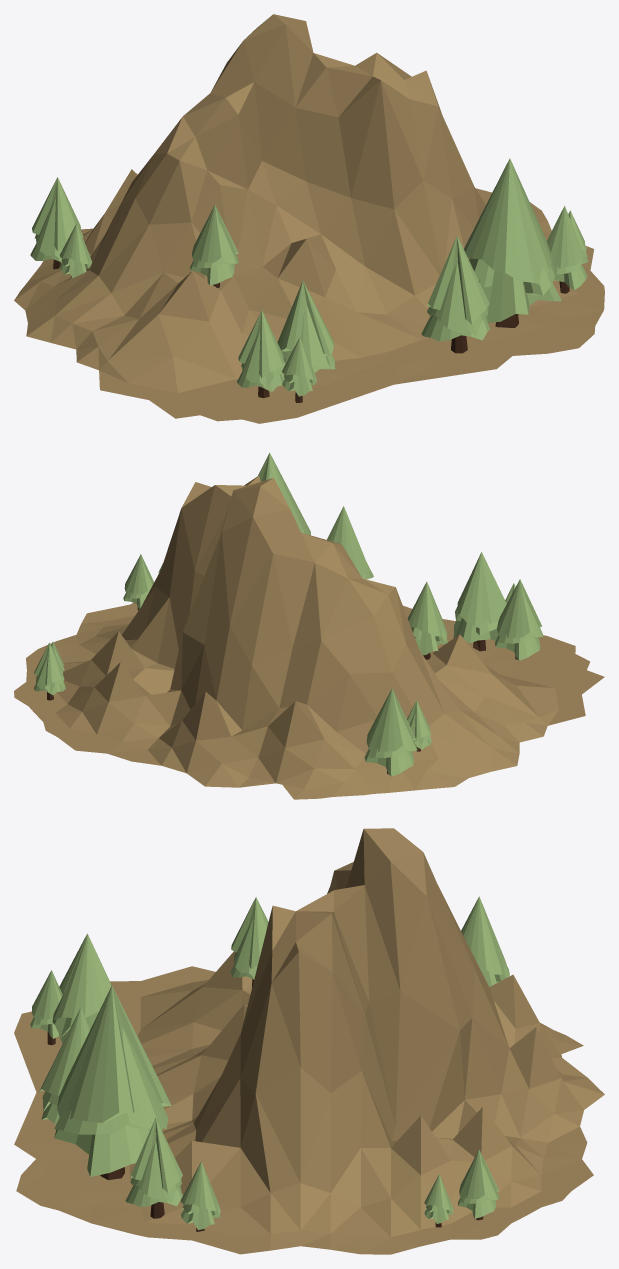
The model's file is environment_ar.fbx.
The picture shows the model from 3 angles, top to bottom: view 1: azimuth 30°, elevation 25°; view 2: azimuth 150°, elevation 25°; view 3: azimuth 270°, elevation 25°; orthographic projection. The views are drawn at different scales.
Parts seen in each view (by area): view 1: Mountain, Tree.002, Tree.007, Tree.009, Tree.010, Tree.012, Tree.005, Tree.008, Tree.006, Tree.001; view 2: Mountain, Tree.009, Tree.012, Tree.010, Tree.005, Tree.007, Tree.004, Tree.011, Tree.002, Tree.001; view 3: Mountain, Tree.002, Tree.008, Tree.009, Tree.012, Tree.007, Tree.005, Tree.004, Tree.011, Tree.006, Tree.003.
Part boxes in pixels (left/top/right/bottom): Mountain: left=14, top=14, right=604, bottom=423; Tree.002: left=464, top=158, right=561, bottom=327; Tree.007: left=421, top=235, right=490, bottom=353; Tree.009: left=277, top=281, right=335, bottom=372; Tree.010: left=237, top=310, right=285, bottom=397; Tree.012: left=30, top=177, right=83, bottom=269; Tree.005: left=190, top=205, right=238, bottom=287; Tree.008: left=547, top=206, right=588, bottom=293; Tree.006: left=282, top=337, right=316, bottom=402; Tree.001: left=59, top=223, right=91, bottom=277; Mountain: left=14, top=476, right=604, bottom=799; Tree.009: left=453, top=552, right=506, bottom=651; Tree.012: left=364, top=688, right=417, bottom=776; Tree.010: left=494, top=579, right=543, bottom=660; Tree.005: left=407, top=581, right=447, bottom=659; Tree.007: left=327, top=506, right=373, bottom=579; Tree.004: left=34, top=642, right=65, bottom=700; Tree.011: left=123, top=554, right=154, bottom=610; Tree.002: left=258, top=452, right=310, bottom=535; Tree.001: left=407, top=700, right=431, bottom=751; Mountain: left=14, top=828, right=604, bottom=1254; Tree.002: left=54, top=985, right=171, bottom=1179; Tree.008: left=125, top=1118, right=182, bottom=1218; Tree.009: left=52, top=934, right=111, bottom=1043; Tree.012: left=461, top=896, right=509, bottom=986; Tree.007: left=39, top=1007, right=89, bottom=1124; Tree.005: left=230, top=897, right=268, bottom=987; Tree.004: left=458, top=1149, right=499, bottom=1220; Tree.011: left=180, top=1161, right=220, bottom=1231; Tree.006: left=30, top=970, right=62, bottom=1045; Tree.003: left=424, top=1174, right=453, bottom=1227.
Bounding box in the file's own units: 2323 × 2013 × 1070.
